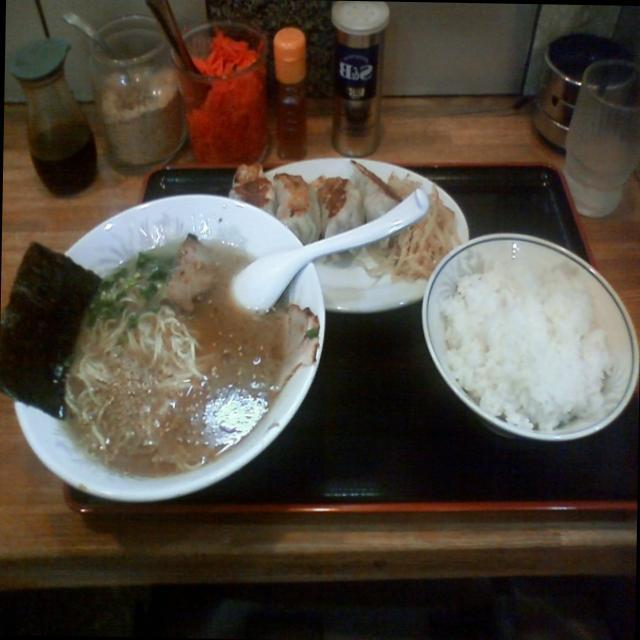Rice: (438, 229, 626, 440)
